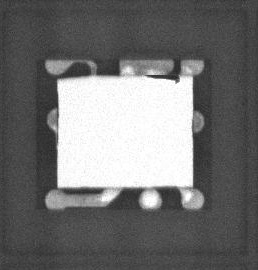DIE_BROKEN: (146, 72, 182, 83)
